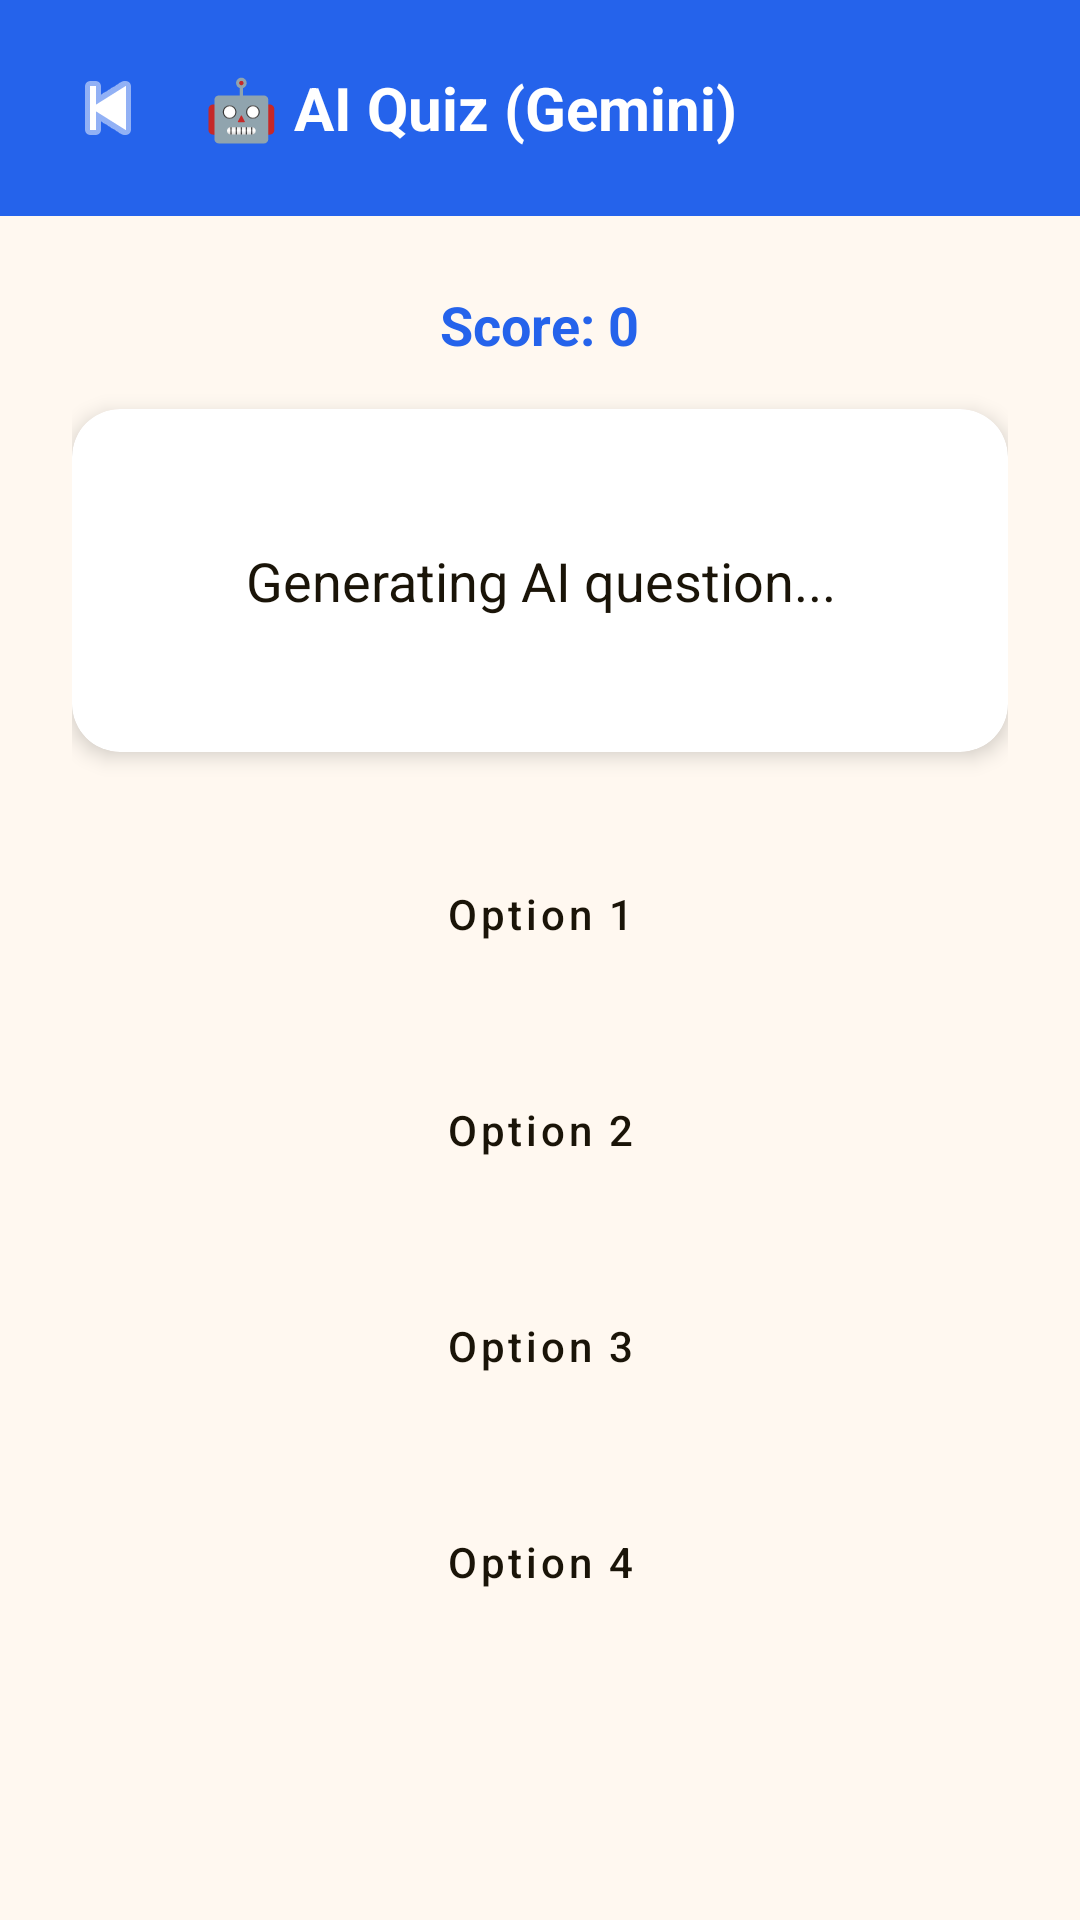

Screen size 1080×1920. Icon name, then its center in pixels as [x,y]:
previous: [108,108]
